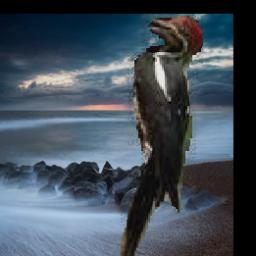Woodpecker: (121, 14, 203, 256)
